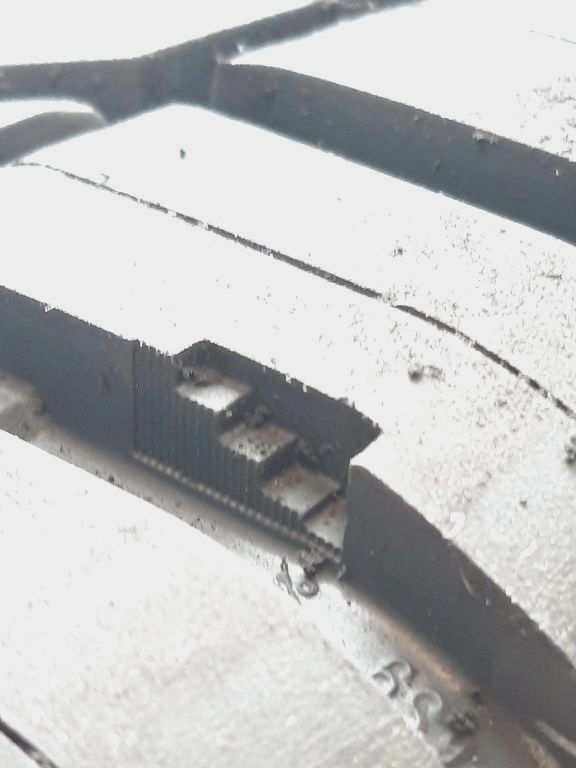temoin:95: (121, 319, 394, 585)
